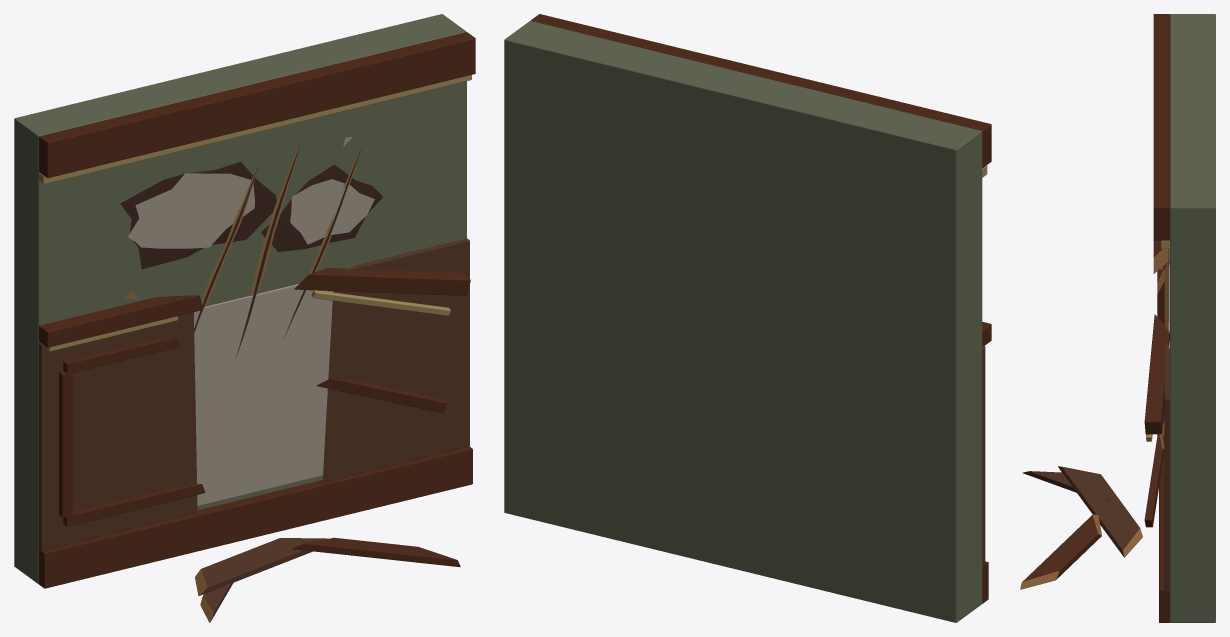
File: MASTER_ROOM_WALL_v2.fbx
3 renders of one model, left to right at view 1: azimuth 30°, elevation 25°; view 2: azimuth 150°, elevation 25°; view 3: azimuth 270°, elevation 25°, orthographic. The views are drawn at different scales.
Parts seen in each view (by area): view 1: 04_DirectorWall_Wrecked_Solid_Wall_Core_Wallpaper; view 2: 04_DirectorWall_Wrecked_Solid_Wall_Core_Wallpaper; view 3: 04_DirectorWall_Wrecked_Solid_Wall_Core_Wallpaper.
Boxes of the visible parts, box(x1,y1,x2,y2) form: 04_DirectorWall_Wrecked_Solid_Wall_Core_Wallpaper: box(14, 14, 475, 622); 04_DirectorWall_Wrecked_Solid_Wall_Core_Wallpaper: box(504, 14, 991, 622); 04_DirectorWall_Wrecked_Solid_Wall_Core_Wallpaper: box(1020, 14, 1215, 622).
Size of the model in its own units: 100 by 102 by 42.69.
